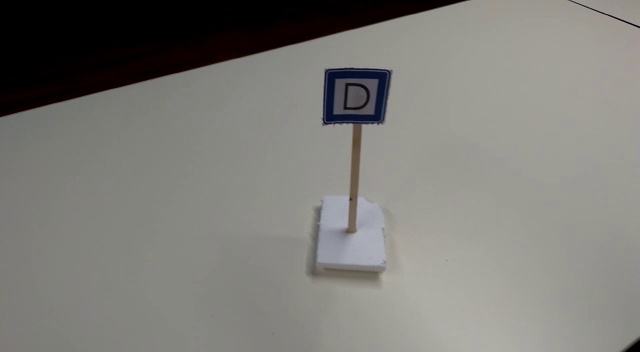durak: (323, 70, 391, 125)
